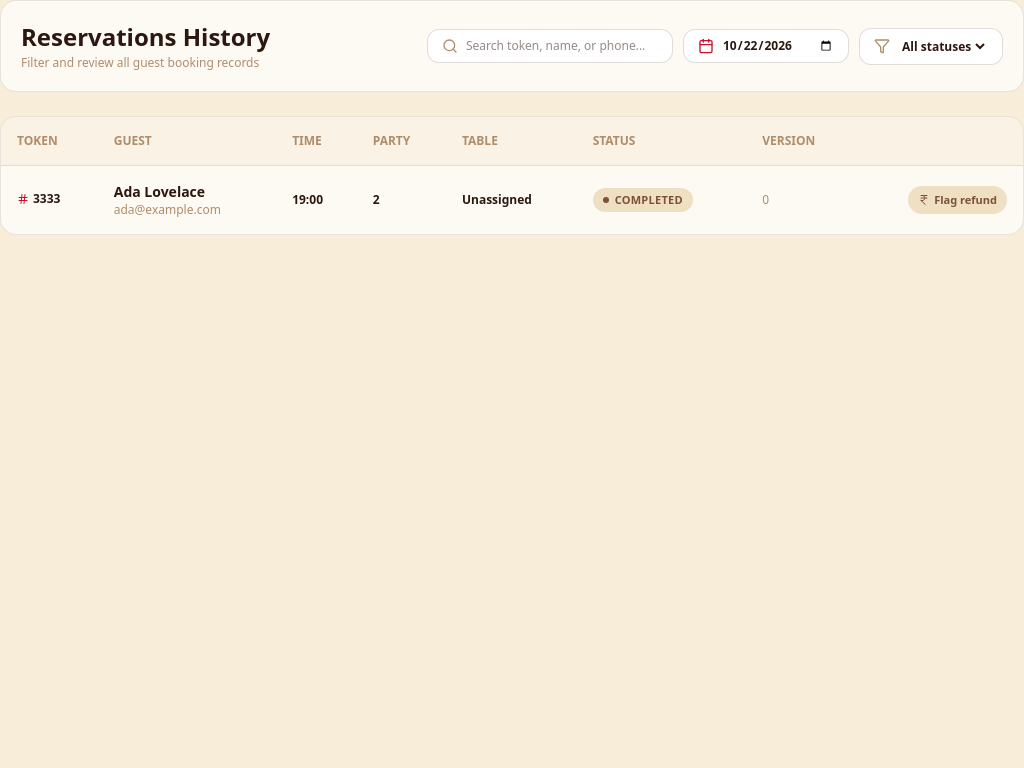
ReservationsHistoryPage flagging a refund owed › the dialog requires a reason before it will submit
This screenshot has width=1024, height=768.
Click the button "Flag refund".
click(958, 200)  # box left=908, top=186, right=1007, bottom=214
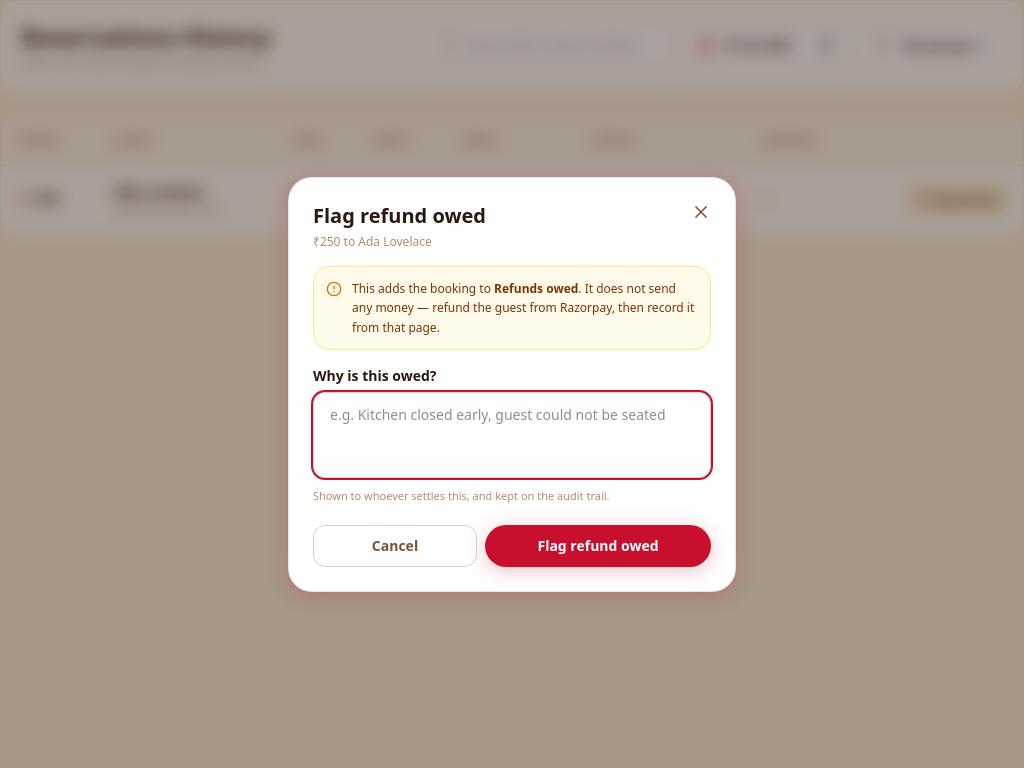
Check: the dialog shows "does not send any money", box left=352, top=280, right=694, bottom=336
Click the button "Flag refund owed".
click(598, 546)  # box left=485, top=524, right=711, bottom=566
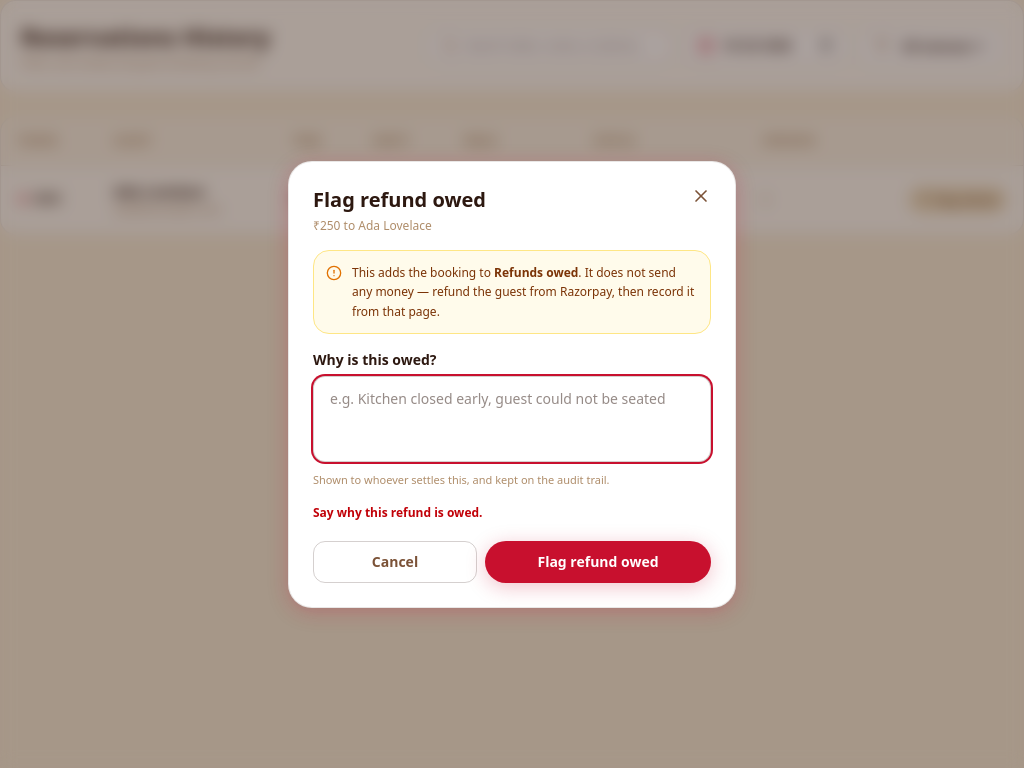
Check: the message shows "Say why this refund is owed", box left=313, top=504, right=482, bottom=520
